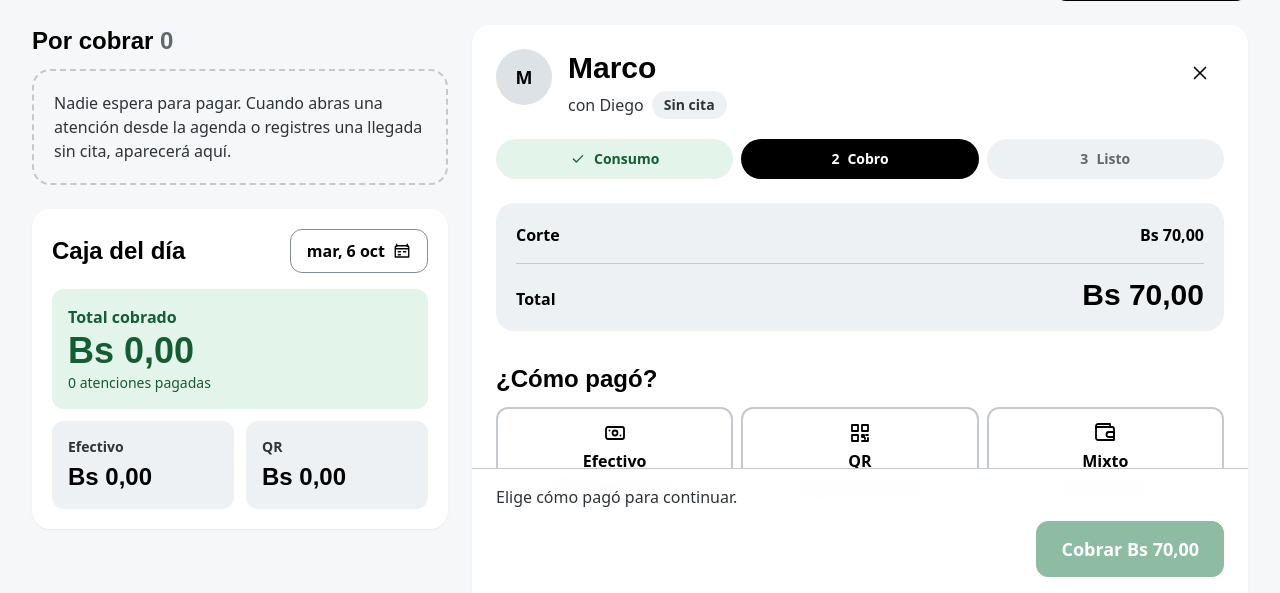
Test: OperationsPage › asks how the customer paid and shows the change for cash
Expected: the button "Cobrar Bs 70,00" is disabled, [1036,521,1224,577]
Click the button "Efectivo Billetes o monedas" at (615, 458), box [496,406,733,510]
(page scrolled)
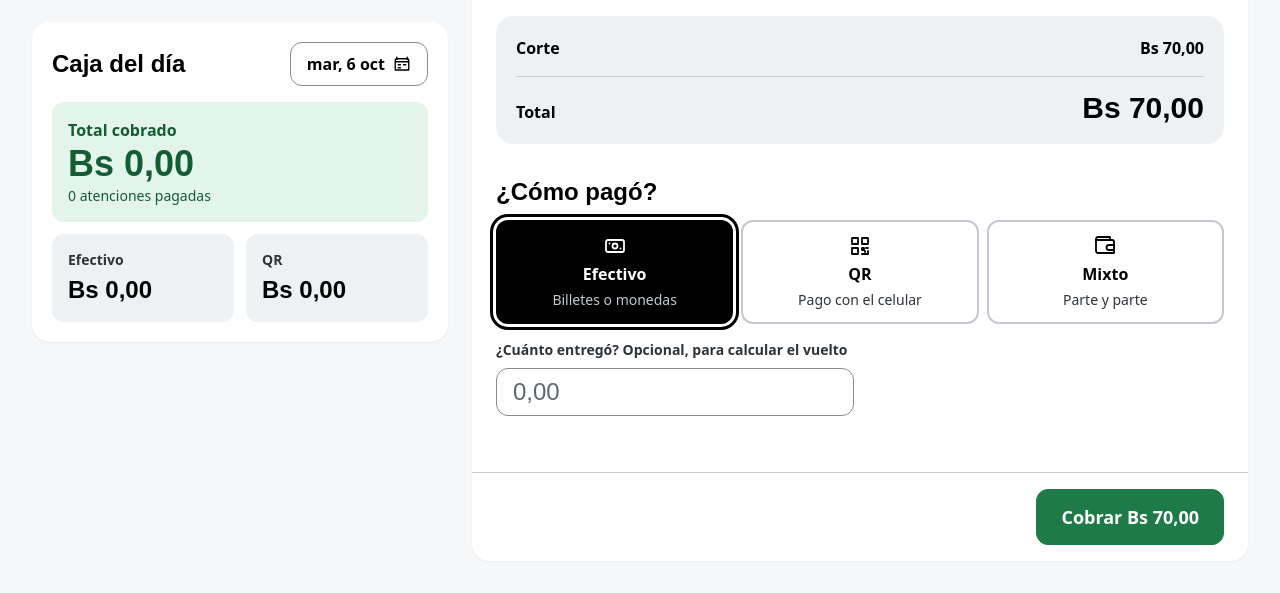
Type "100" into the field labelled "¿Cuánto entregó? Opcional, para calcular el vuelto" at (675, 392), box [496,368,854,416]
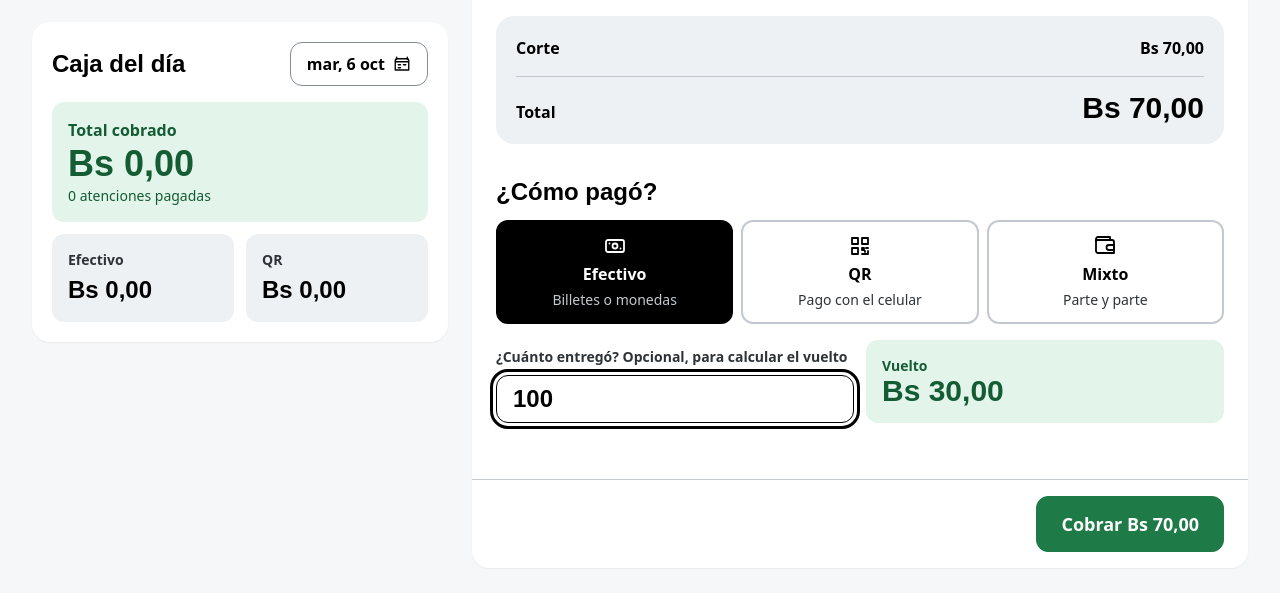
Result: the text "Vuelto" is shown at [882,356,928,374]
Result: the text "Bs 30,00" is shown at [882,374,1004,406]
Click the button "Cobrar Bs 70,00" at (1130, 524), box [1036,496,1224,552]
(page scrolled)
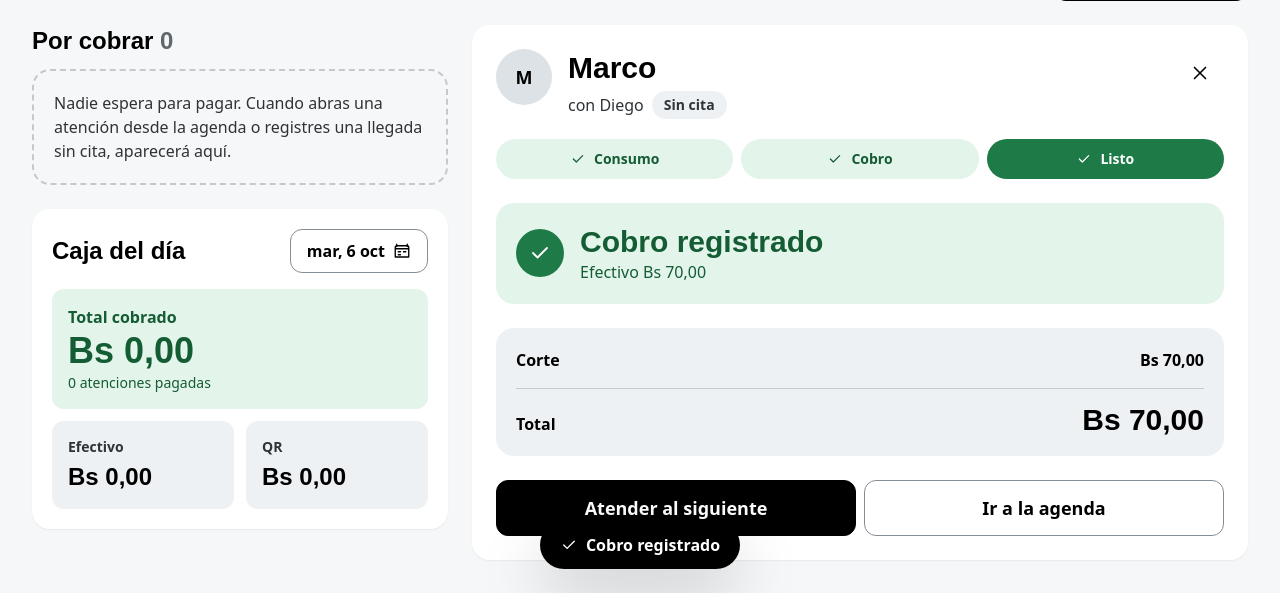
Result: the text "Cobro registrado" is shown at [580,222,823,260]
